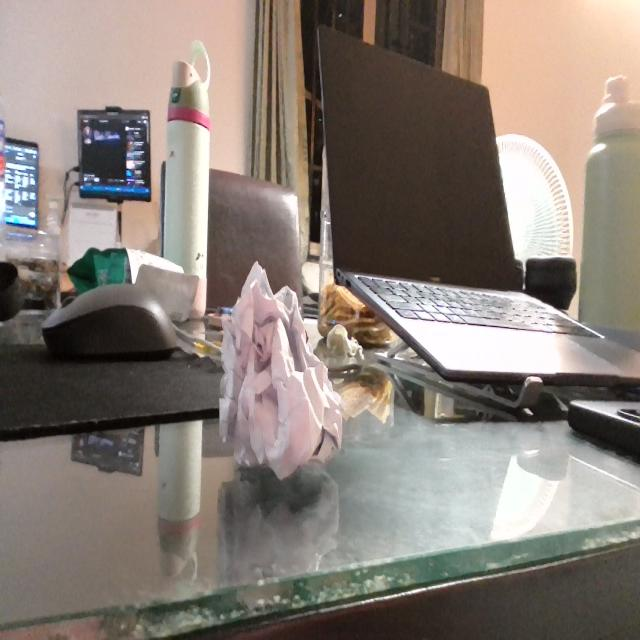crumpled_paper: (219, 256, 346, 486)
